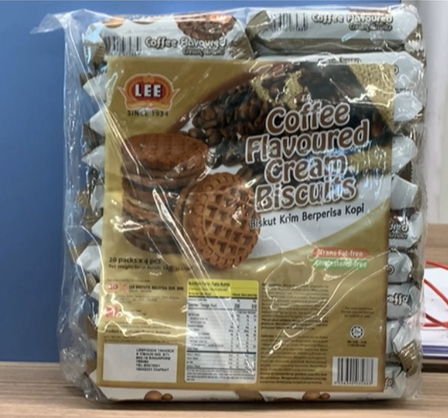cookies_1500g: (113, 61, 386, 398)
